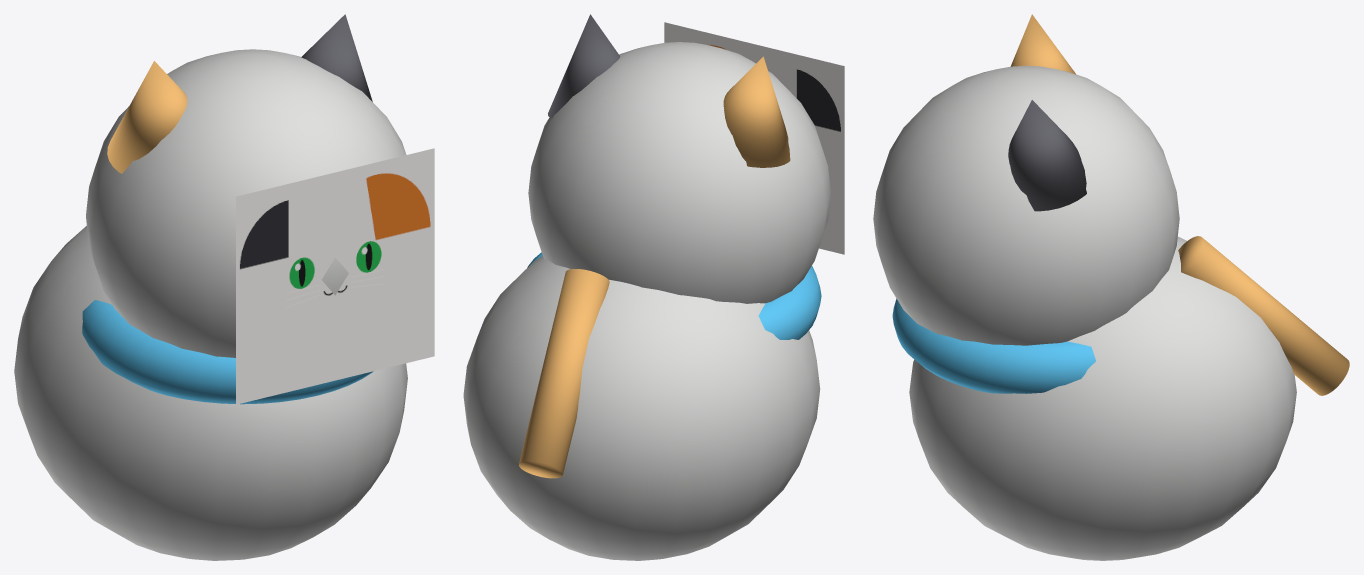
Rendered from my_cat.glb.
3 views of the same model, side by side, from view 1: azimuth 30°, elevation 25°; view 2: azimuth 150°, elevation 25°; view 3: azimuth 270°, elevation 25° (orthographic). The views are drawn at different scales.
Visible parts, largest first — view 1: CalicoCat; view 2: CalicoCat; view 3: CalicoCat.
Part boxes in pixels (x1=…): CalicoCat: x1=14, y1=14, x2=434, y2=560; CalicoCat: x1=463, y1=14, x2=844, y2=560; CalicoCat: x1=873, y1=14, x2=1349, y2=560.
Bounding box in the file's own units: 1.06 × 1.61 × 1.43.
5 materials, 1 textured.
